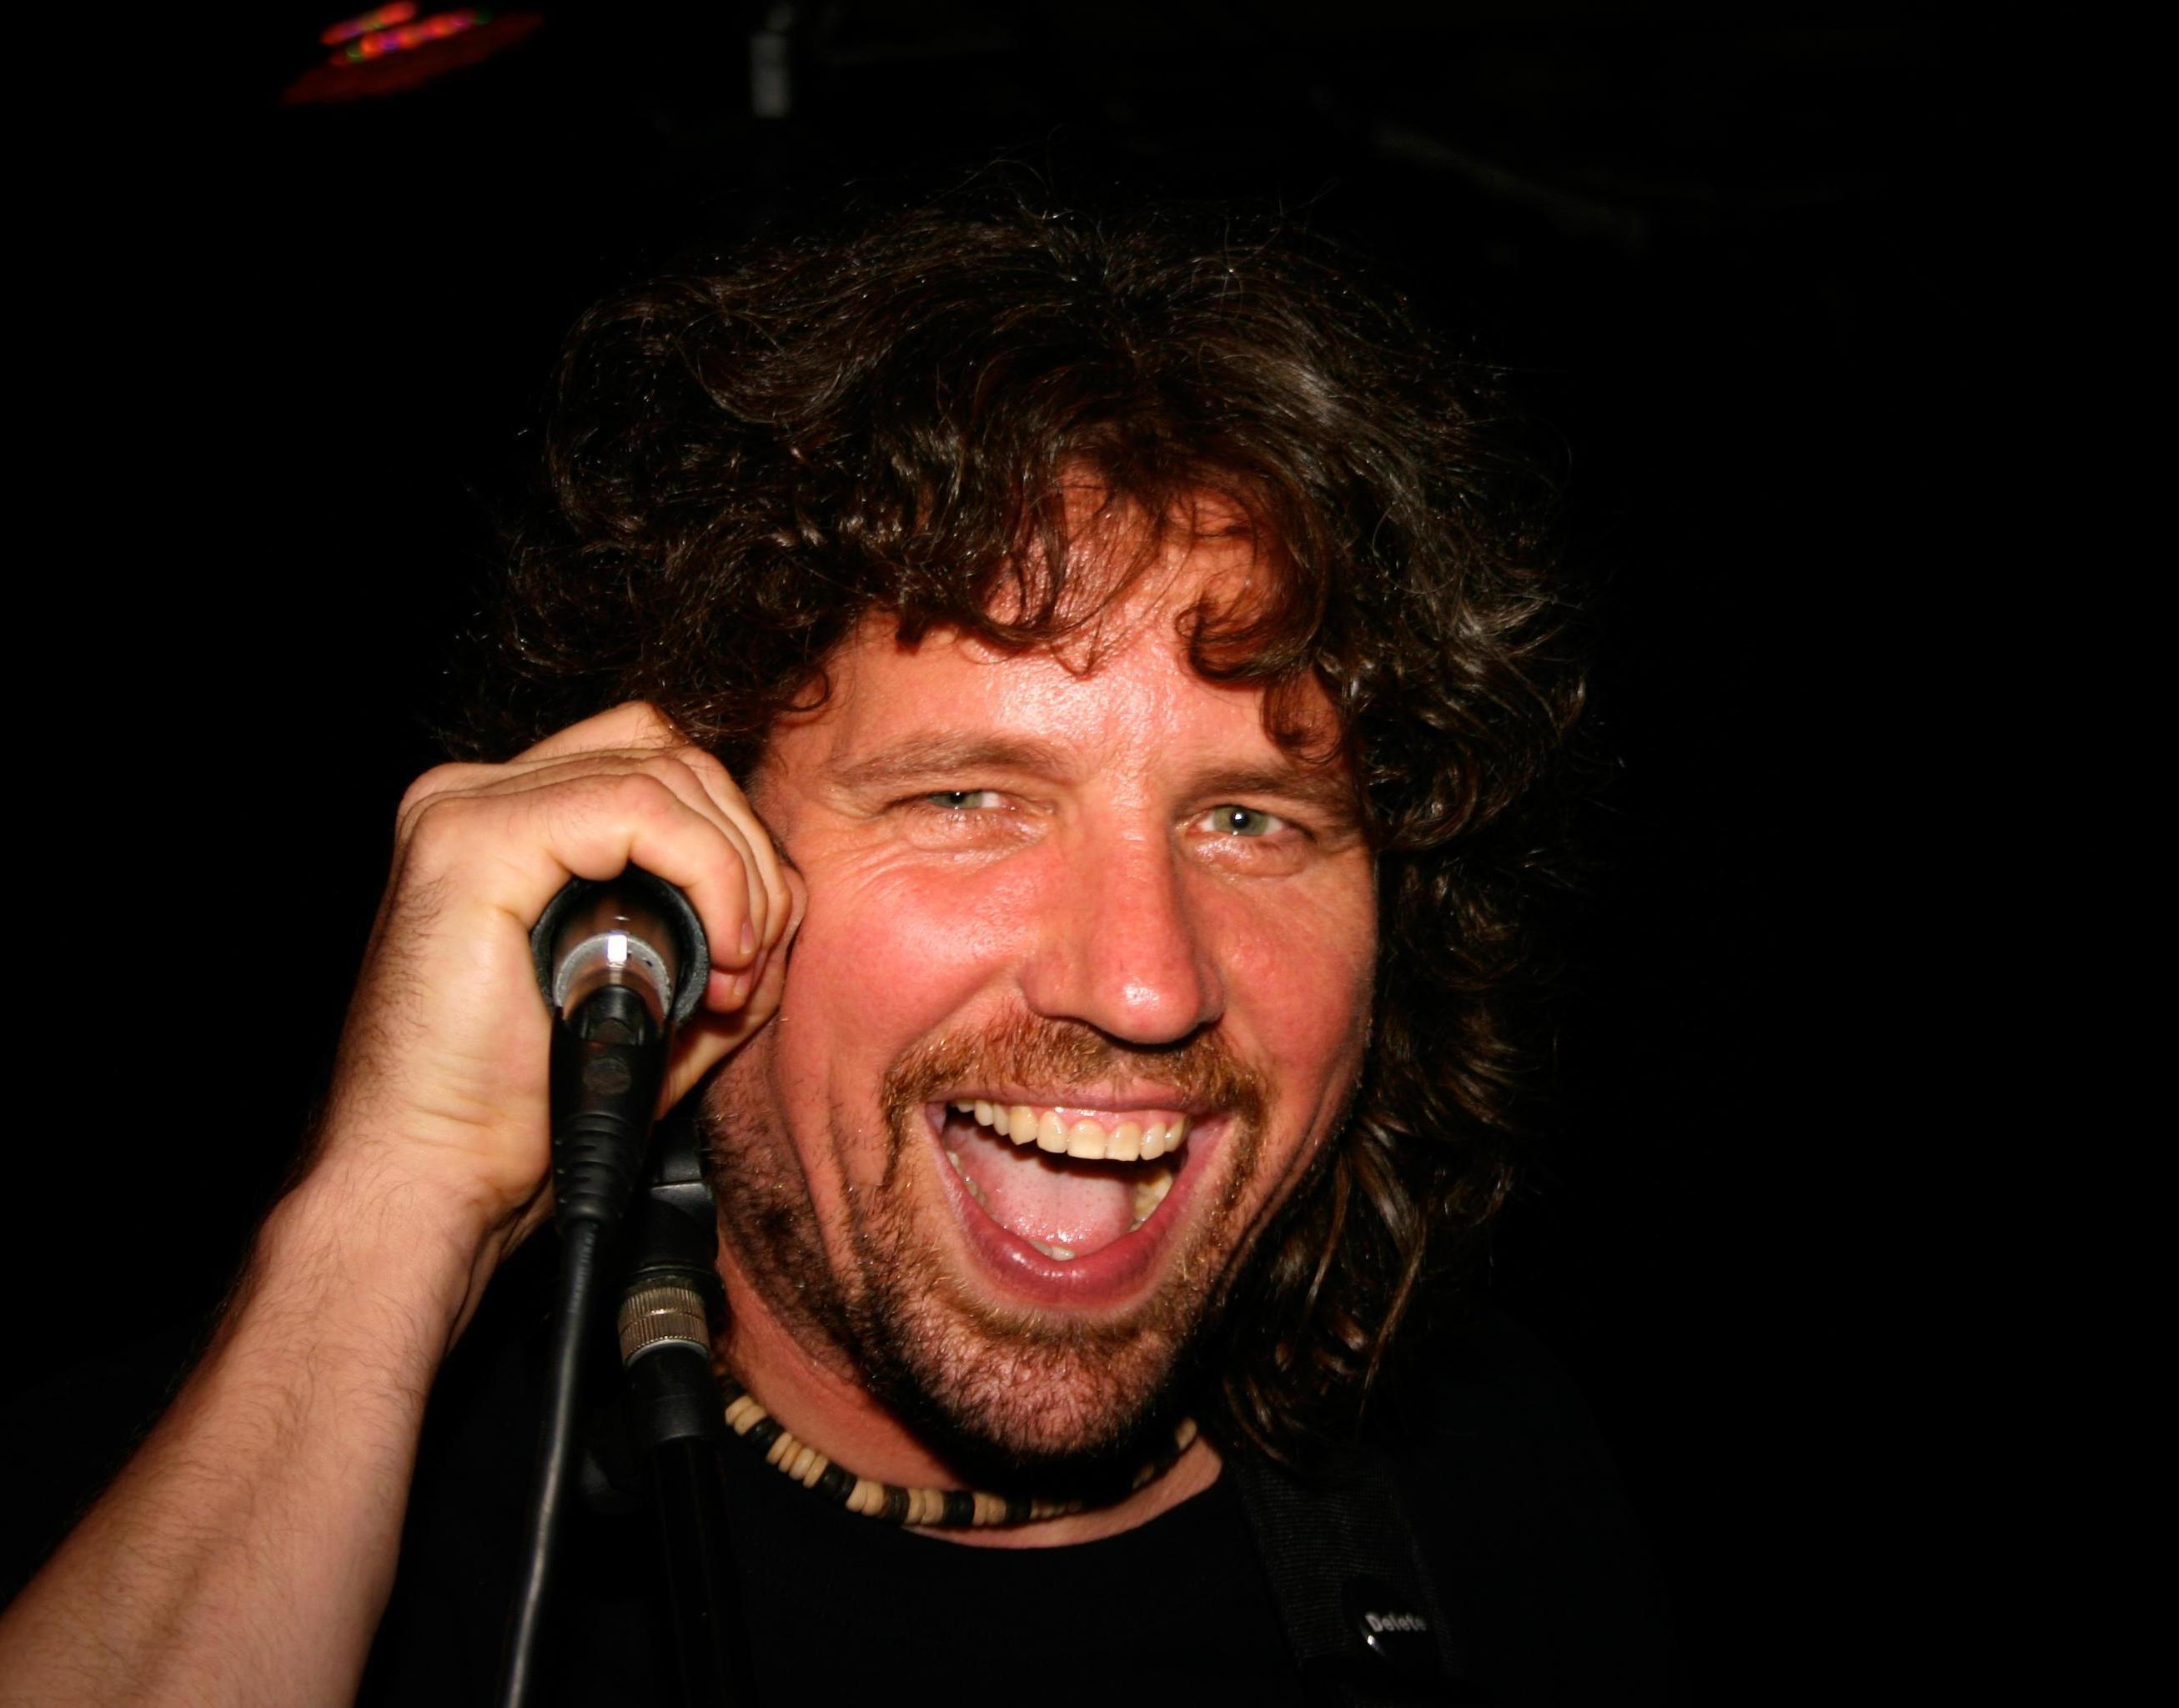Eyebags: (886, 819, 1044, 877), (1187, 836, 1314, 895)
